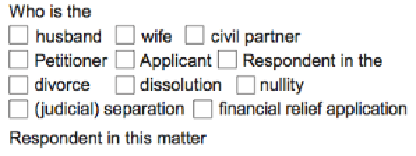checkbox: (6, 47, 28, 70), (113, 47, 135, 70), (113, 22, 135, 45), (183, 22, 205, 45), (215, 47, 237, 70), (7, 24, 29, 46), (6, 74, 28, 96), (6, 98, 28, 120), (190, 98, 212, 120), (113, 74, 135, 96), (233, 73, 255, 95)
